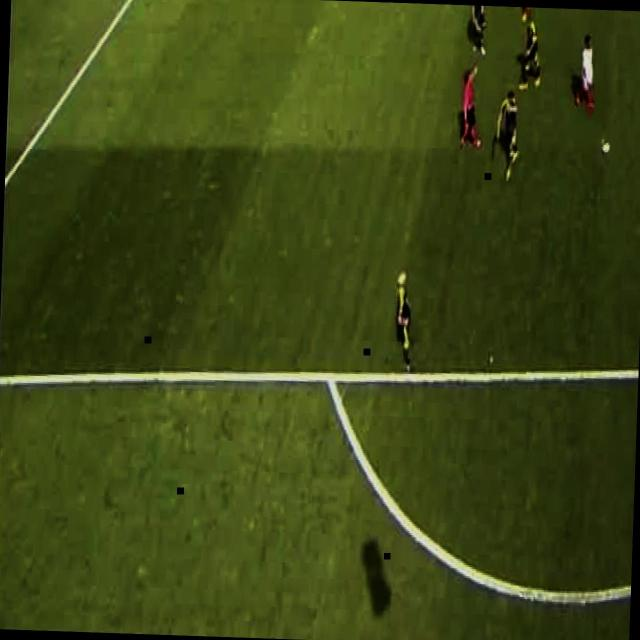ball: (602, 142, 610, 154)
player-white: (494, 91, 522, 181), (393, 273, 415, 375), (459, 64, 485, 150), (575, 34, 597, 110), (520, 17, 542, 91), (470, 5, 487, 54), (514, 7, 534, 18)
